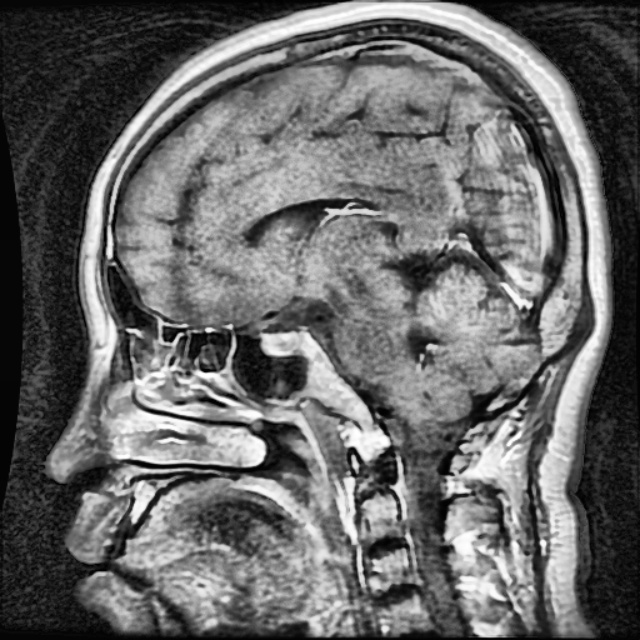Pituitary: (260, 330, 300, 354)
